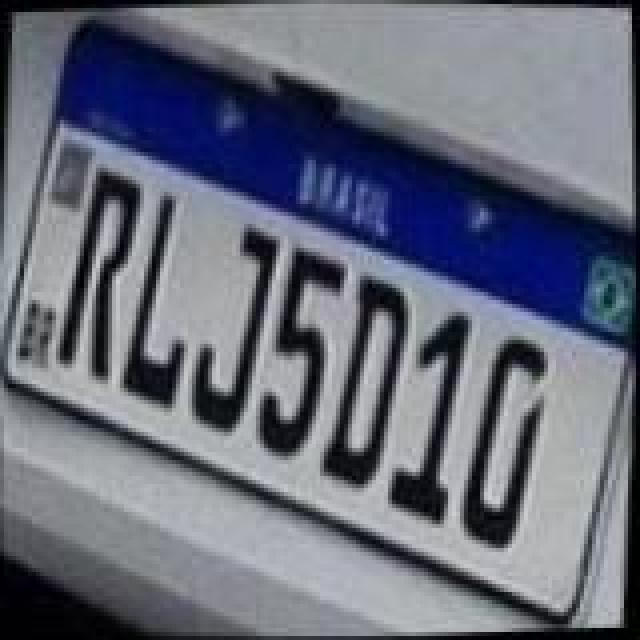1: (380, 304, 484, 532)
5: (246, 238, 358, 462)
D: (310, 264, 422, 496), (446, 330, 558, 558)
J: (180, 218, 292, 438)
L: (110, 188, 202, 416)
R: (44, 158, 152, 386)
